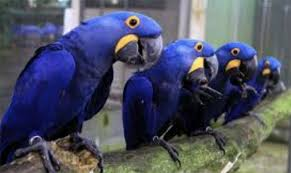guacamaya: (1, 9, 164, 155), (122, 33, 219, 144), (213, 26, 259, 114), (256, 45, 282, 95)
